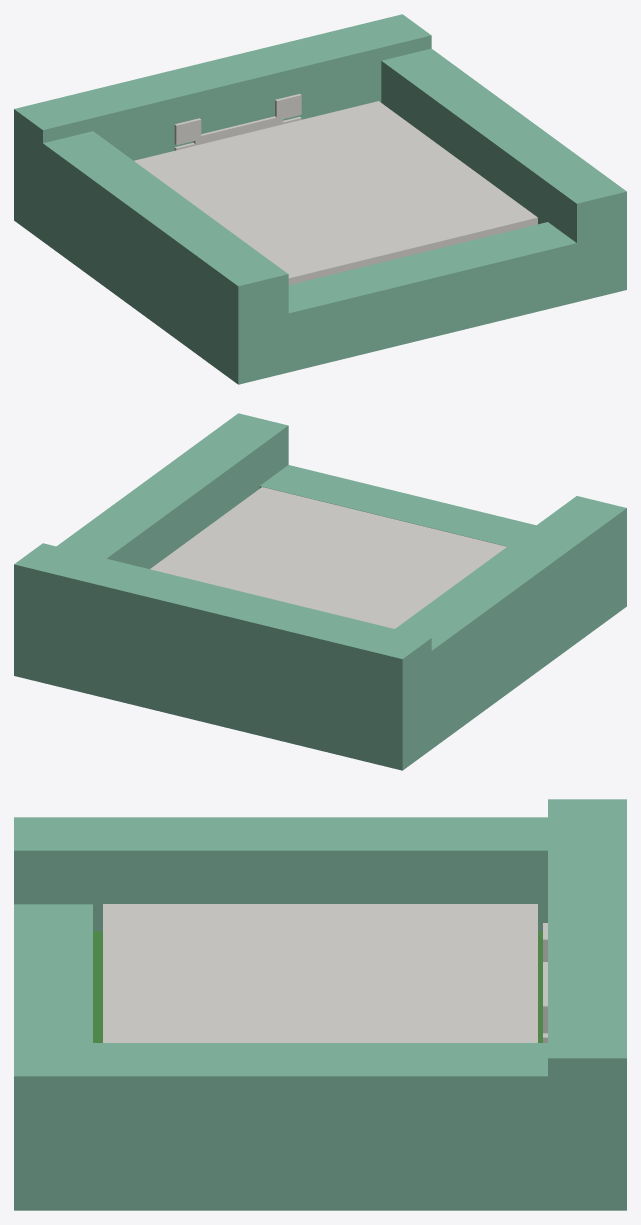
File: ncb-pet-bed-mint.glb
The picture shows the model from 3 angles, top to bottom: view 1: azimuth 30°, elevation 25°; view 2: azimuth 150°, elevation 25°; view 3: azimuth 270°, elevation 25°; orthographic projection. The views are drawn at different scales.
Visible parts, largest first — view 1: box-prop; view 2: box-prop; view 3: box-prop.
Part boxes in pixels (x1,y1,x2,y2): box-prop: (14,14,626,384); box-prop: (14,413,626,770); box-prop: (14,799,626,1210).
Bounding box in the file's own units: 1.24 × 0.34 × 1.24.
